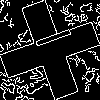I: (25, 25, 73, 54)
